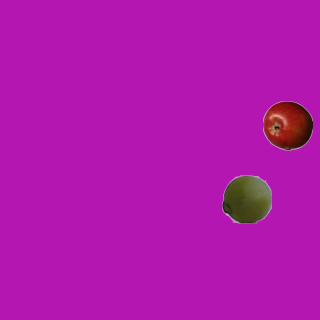Apple Braeburn: (262, 100, 312, 150)
Grape White 4: (221, 173, 271, 223)
